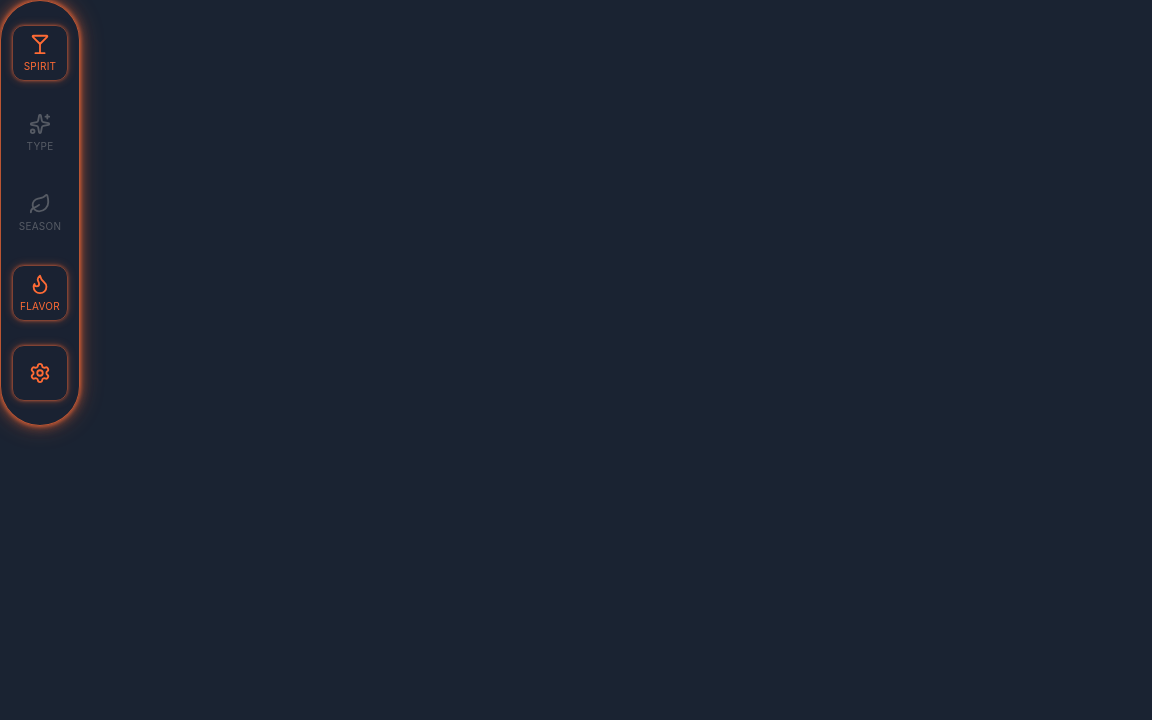
TagRail › flyout mechanics › mousedown outside the rail closes the open flyout
This screenshot has width=1152, height=720.
Click the button "Spirit".
click(40, 53)  # box [12,25,68,81]
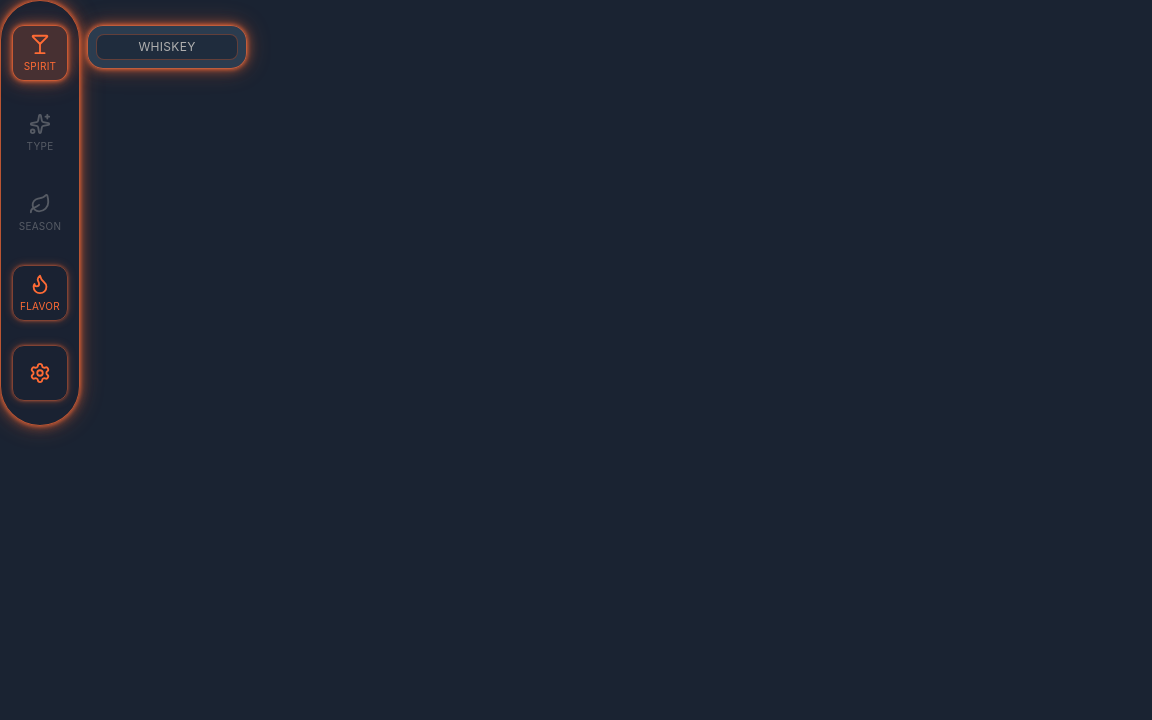
Expected: the button "Whiskey" is shown, [96,34,238,60]
Press the mouse on the element showing "Spirit Whiskey Type Season Flavor" at (576, 360), box [0,0,1151,719]
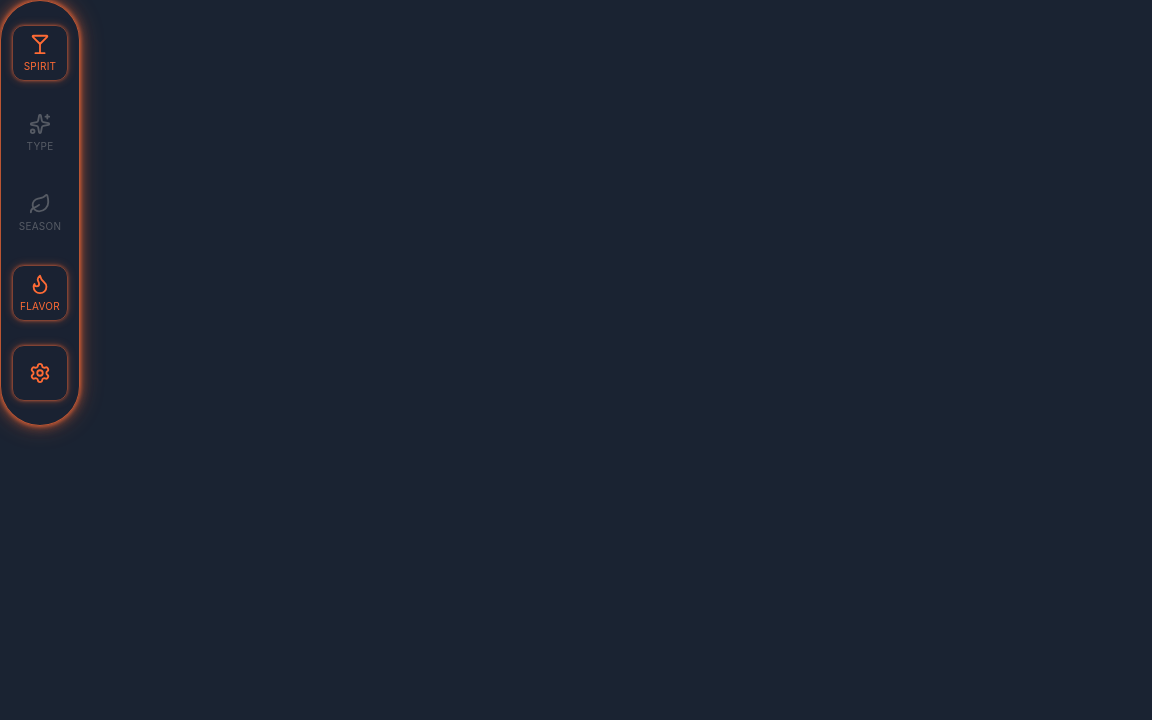
Expected: the button "Whiskey" is gone
